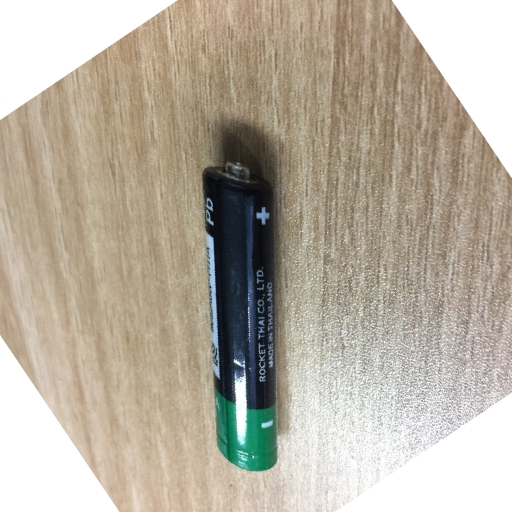Battery_0: (188, 146, 306, 490)
